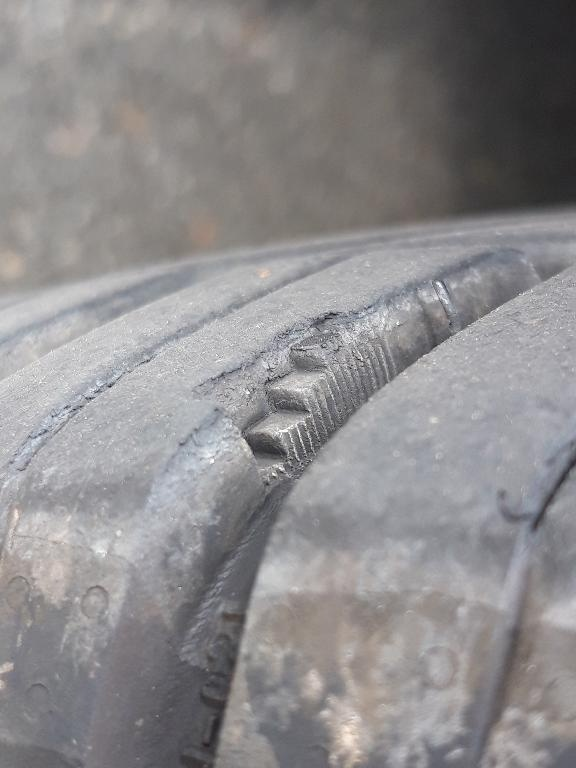temoin:80: (176, 289, 404, 500)
